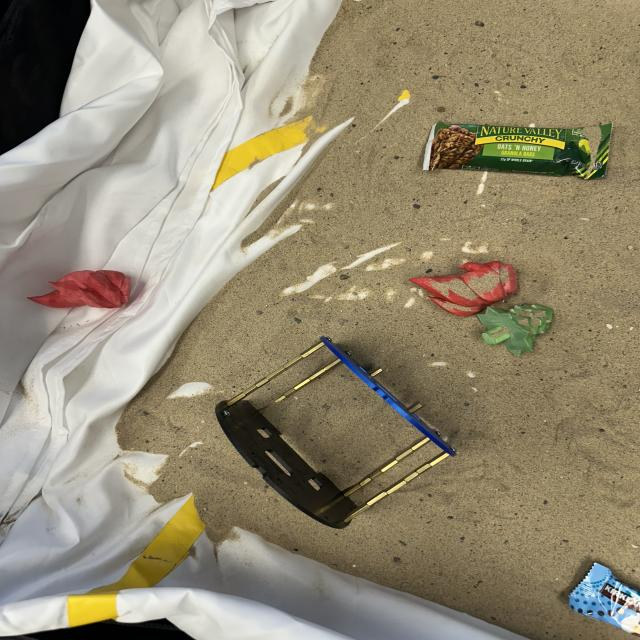fire: (406, 257, 520, 321), (32, 268, 142, 310)
tree: (480, 300, 558, 351)
